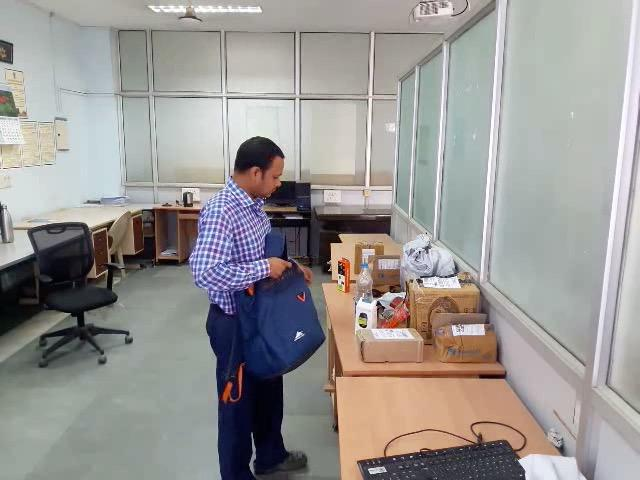shoplifting: (146, 209, 518, 411)
